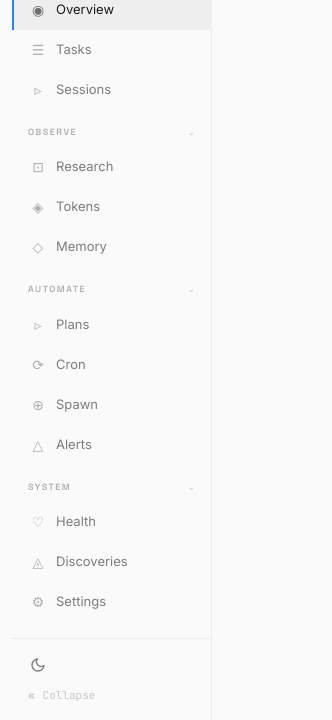
Test: SidebarNav › collapsed state › hides section headers when collapsed
The width and height of the screenshot is (332, 720).
(page scrolled)
Click the button with aria-label "collapse sidebar": (112, 695) left=24, top=683, right=199, bottom=708
(page scrolled)
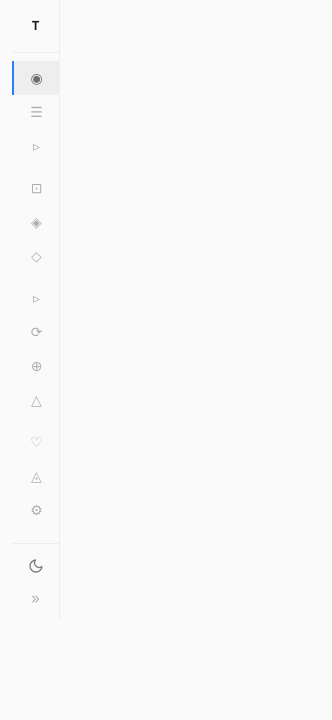
Now the button "OBSERVE" is gone
Now the button "AUTOMATE" is gone
Now the button "SYSTEM" is gone
